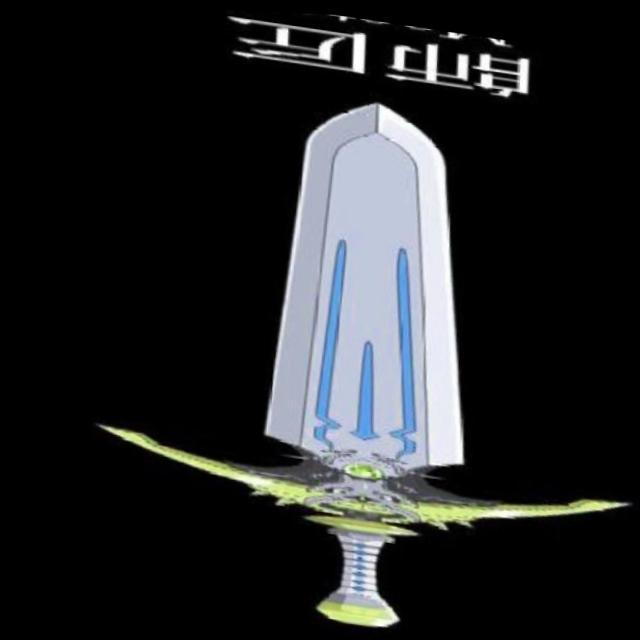weapon: (49, 57, 640, 640)
